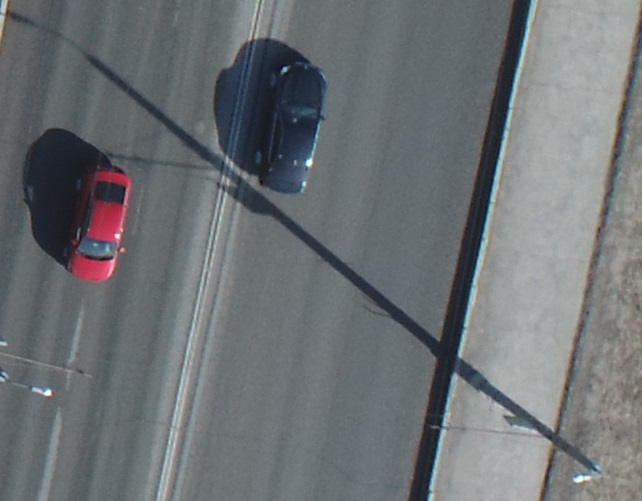opora: (420, 330, 610, 485)
